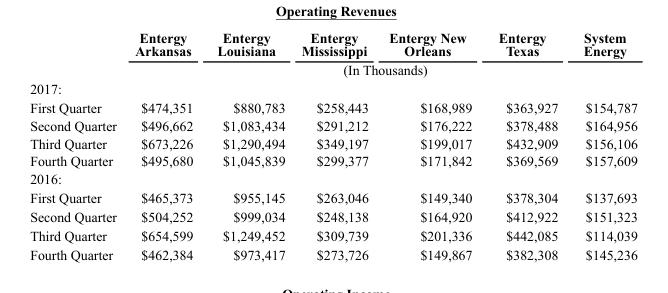table: (29, 29, 636, 261)
table column: (378, 29, 484, 261), (29, 29, 125, 261), (204, 29, 292, 261), (292, 29, 378, 261), (484, 29, 570, 261), (125, 29, 204, 261), (570, 29, 636, 261)
table column header: (29, 29, 636, 79)
table projected row header: (29, 79, 636, 98), (29, 169, 636, 187)
table row: (29, 29, 636, 60), (29, 60, 636, 79), (29, 79, 636, 98), (29, 187, 636, 206), (29, 206, 636, 225), (29, 225, 636, 244), (29, 98, 636, 116), (29, 116, 636, 134), (29, 151, 636, 169), (29, 169, 636, 187), (29, 134, 636, 151), (29, 244, 636, 261)
table spanning cell: (125, 60, 636, 79)
